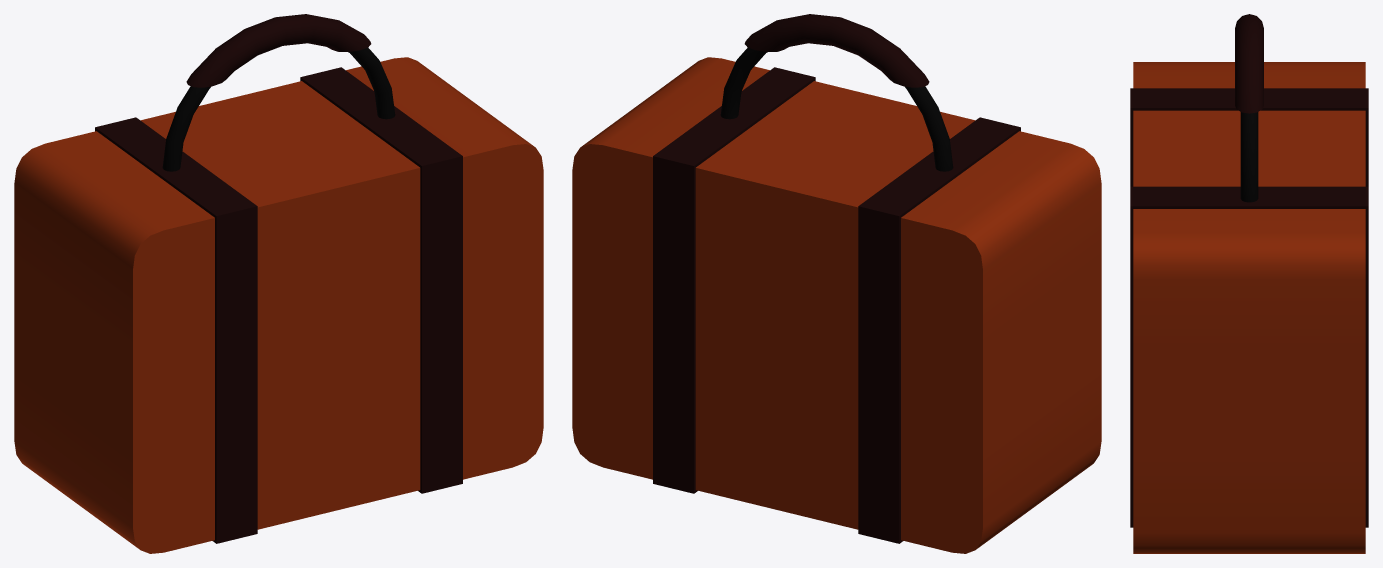
Rendered from travel.fbx.
The picture shows the model from 3 angles, left to right: view 1: azimuth 30°, elevation 25°; view 2: azimuth 150°, elevation 25°; view 3: azimuth 270°, elevation 25°; orthographic projection. The views are drawn at different scales.
Parts seen in each view (by area): view 1: Box001, Box003, Box002, Torus002, Torus001; view 2: Box001, Box003, Box002, Torus002, Torus001; view 3: Box001, Box003, Box002, Torus002, Torus001.
Boxes of the visible parts, <box> form: Box001: <box>14,57,543,553</box>; Box003: <box>300,67,462,493</box>; Box002: <box>95,117,257,543</box>; Torus002: <box>186,14,371,87</box>; Torus001: <box>162,47,395,171</box>; Box001: <box>572,57,1101,553</box>; Box003: <box>653,67,815,493</box>; Box002: <box>858,117,1020,543</box>; Torus002: <box>744,14,929,87</box>; Torus001: <box>720,47,953,171</box>; Box001: <box>1133,62,1365,553</box>; Box003: <box>1130,186,1368,527</box>; Box002: <box>1130,88,1368,186</box>; Torus002: <box>1235,14,1263,113</box>; Torus001: <box>1240,112,1258,202</box>.
Bounding box in the file's own units: 40 × 42 × 20.5.
